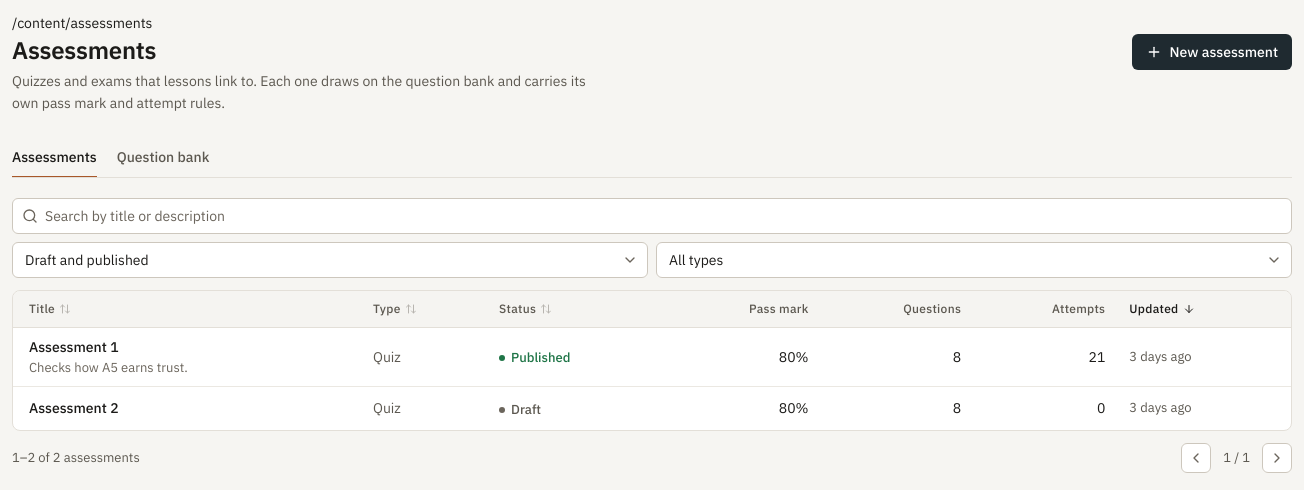
Test: AssessmentsListPage › hides draft and archived clutter by default and keeps filters in the URL
The width and height of the screenshot is (1304, 490).
Later steps or results of the test are not shown.
Expected: the table is shown, [13,291,1291,430]
Select "Archived" in the dropdown named "Status". click: (330, 260)
box: [12,242,648,278]
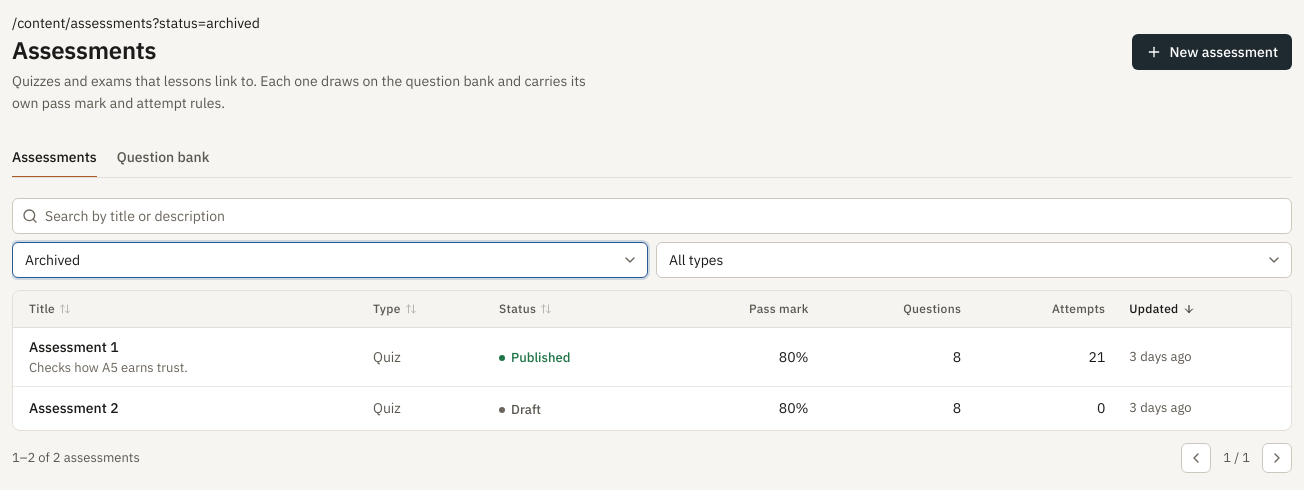
Now the text with test id "where" shows "status=archived", box [12,14,260,32]
